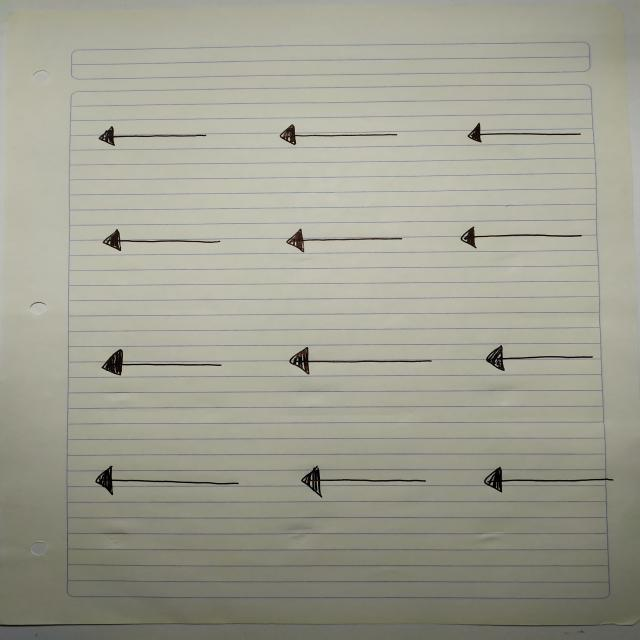arrow_line_left: (83, 460, 262, 506), (81, 343, 246, 384), (469, 461, 626, 499), (283, 464, 444, 500), (274, 344, 443, 378), (90, 223, 233, 261), (267, 221, 413, 257), (474, 343, 604, 381), (446, 221, 590, 254), (82, 119, 224, 151), (267, 118, 407, 150), (458, 118, 590, 149)
